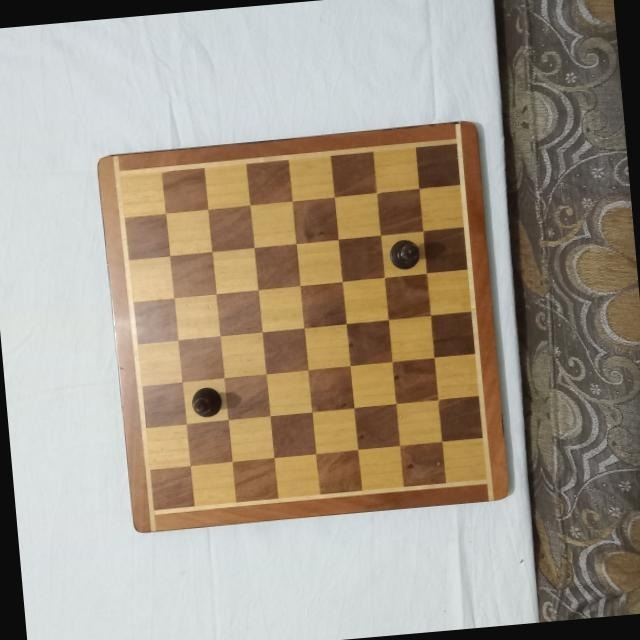black-bishop: (387, 236, 421, 271), (189, 384, 223, 419)
